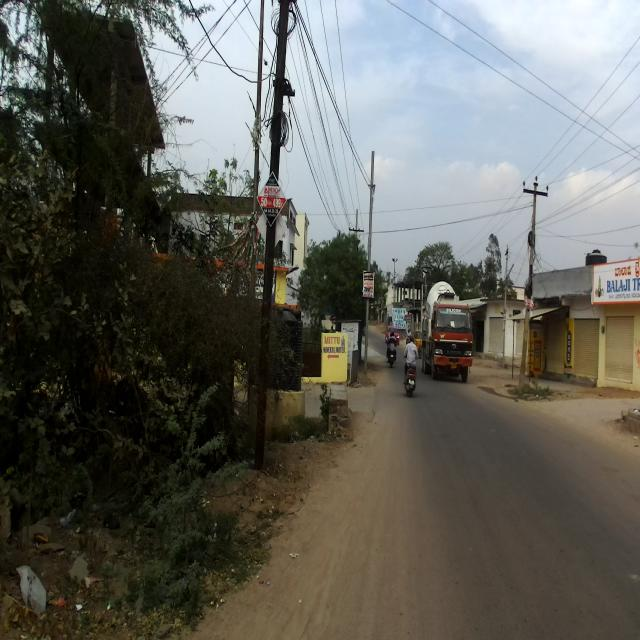electric pole ahead at: (246, 0, 296, 489)
motorcycle ahead at: (400, 326, 421, 406)
truck ahead at: (422, 281, 476, 382)
